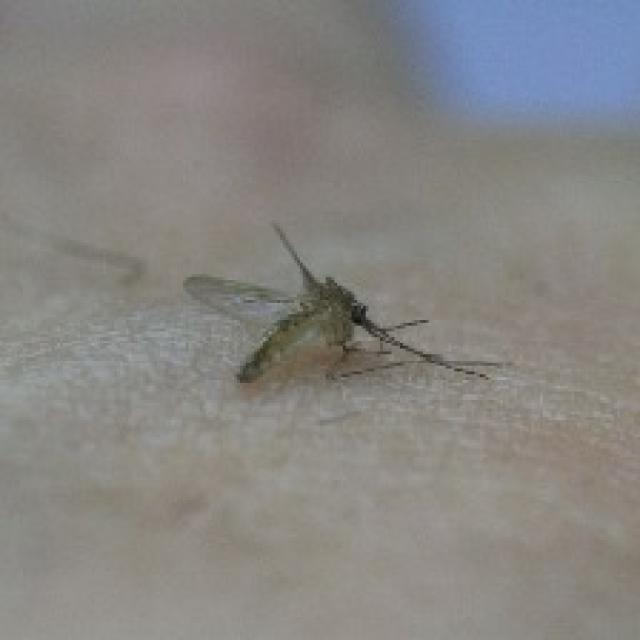culex: (180, 217, 500, 386)
